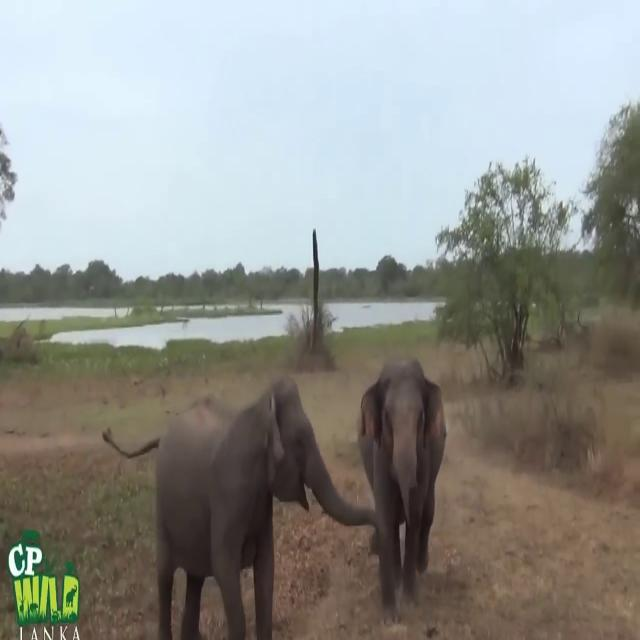Elephant: (102, 382, 378, 640), (357, 357, 447, 623)
